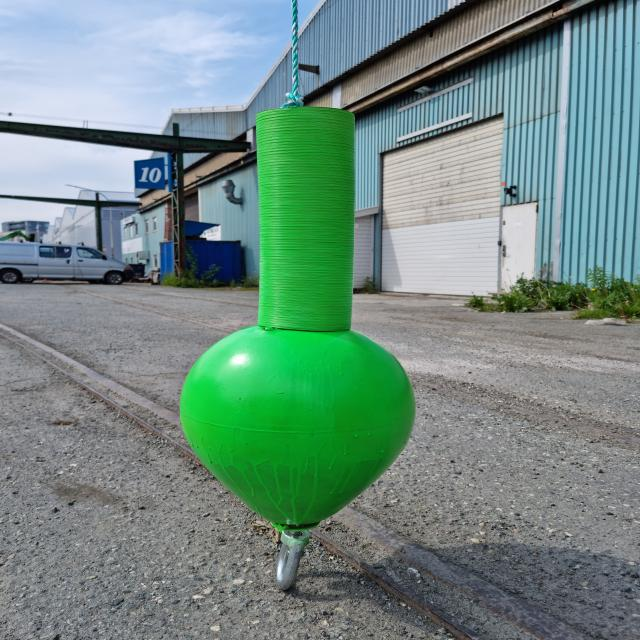green: (180, 110, 416, 528)
